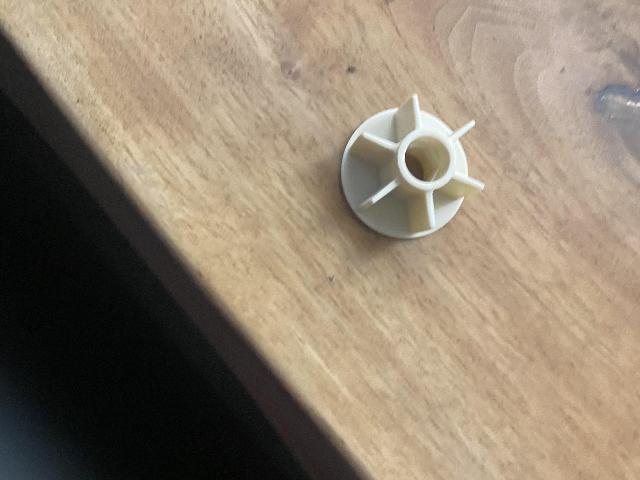Plastik: (343, 100, 475, 233)
